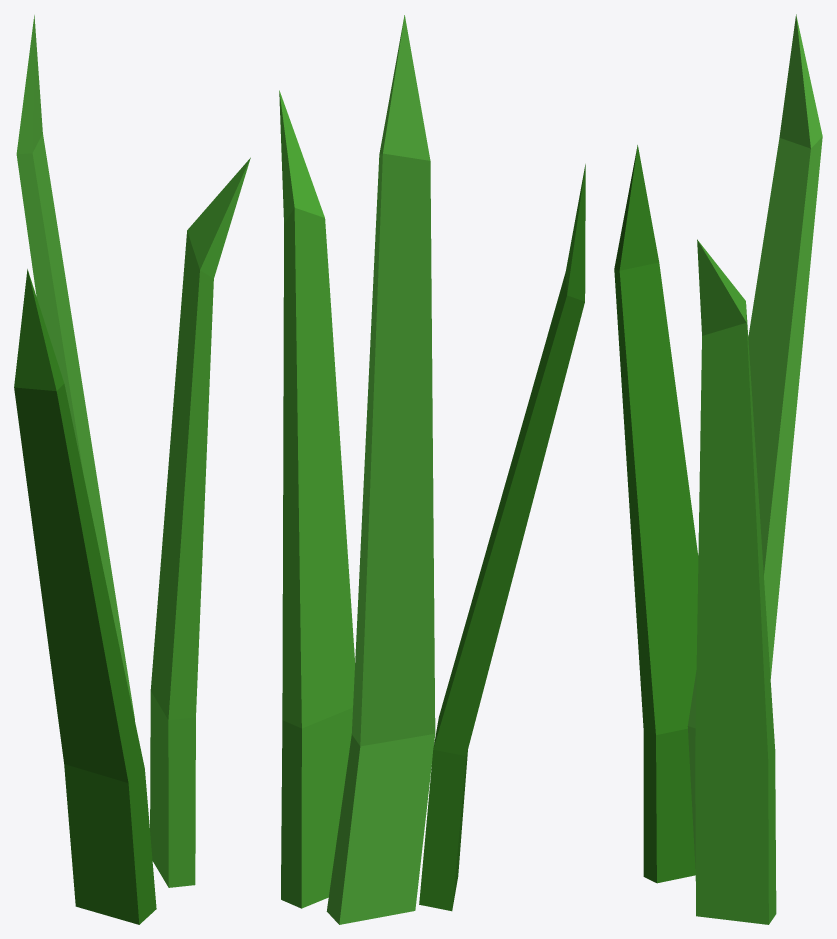
The model's file is herbe1.gltf.
The picture shows the model from 3 angles, left to right: view 1: azimuth 30°, elevation 25°; view 2: azimuth 150°, elevation 25°; view 3: azimuth 270°, elevation 25°; orthographic projection. The views are drawn at different scales.
Visible parts, largest first — view 1: Cube.002; view 2: Cube.002; view 3: Cube.002.
Part boxes in pixels (x1=…): Cube.002: x1=14, y1=15, x2=250, y2=924; Cube.002: x1=279, y1=15, x2=585, y2=924; Cube.002: x1=614, y1=14, x2=822, y2=924.
Bounding box in the file's own units: 0.9255 × 2.95 × 0.6516.
3 materials, 3 textured.
